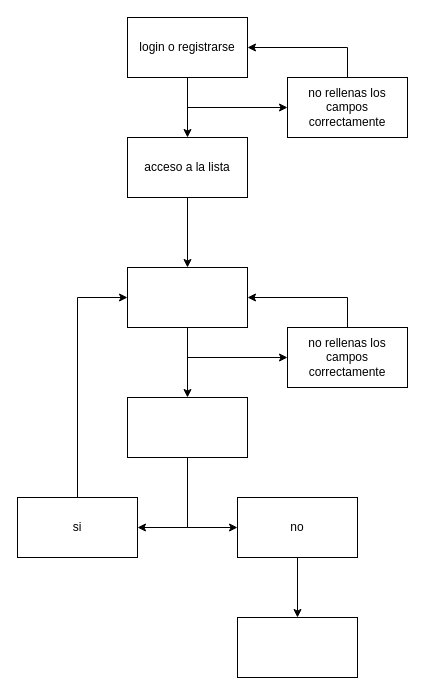
Image size: 425x695. Some labels were removed from this diagram. Here are the shapes that lost their labels. From the top down, the centre of each, then its label:
[187,297]: añadir cosas de la lista
[187,427]: desea añadir algo mas?
[297,647]: aqui tiene el recibo
